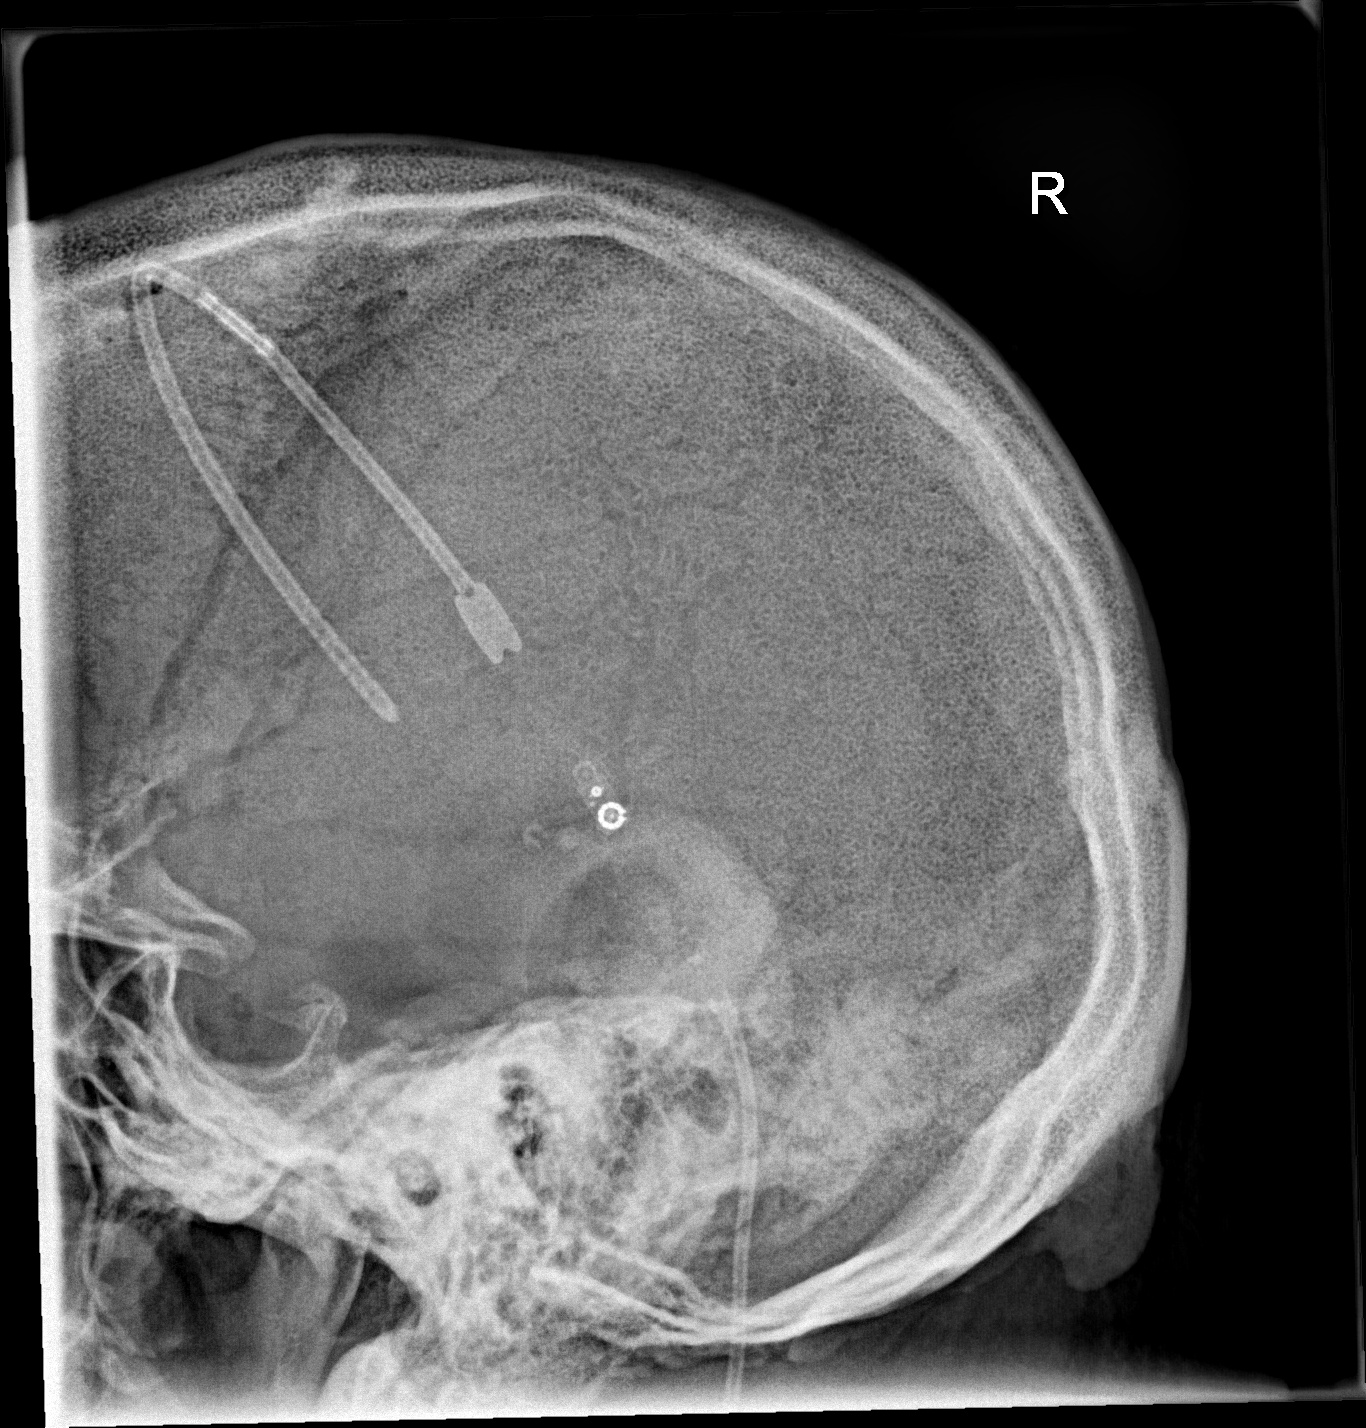Codman Hakim: (565, 754, 639, 848)
